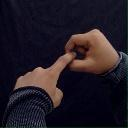hand: (13, 50, 77, 108), (64, 28, 119, 75)
